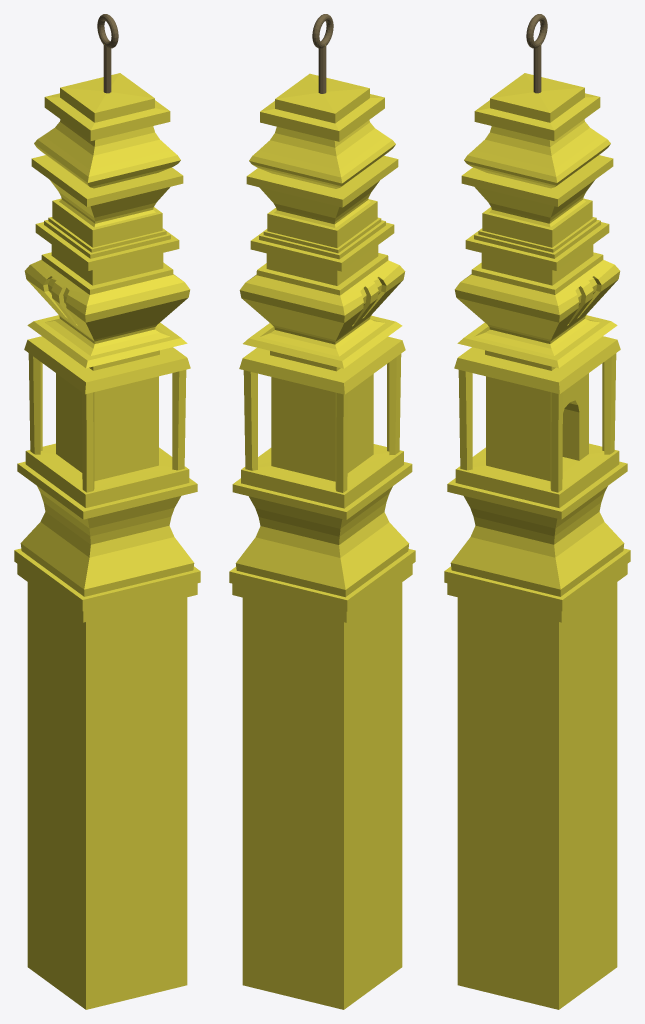
Rendered from Area2.Pillar2.Dec.fbx.
The picture shows the model from 3 angles, left to right: view 1: azimuth 30°, elevation 25°; view 2: azimuth 150°, elevation 25°; view 3: azimuth 330°, elevation 25°; orthographic projection.
Visible parts, largest first — view 1: Torus; view 2: Torus; view 3: Torus.
Boxes of the visible parts, bbox=[...] form: Torus: bbox=[14, 14, 200, 1009]; Torus: bbox=[229, 14, 415, 1009]; Torus: bbox=[444, 14, 630, 1009].
Bounding box in the file's own units: 227 × 1765 × 227.
